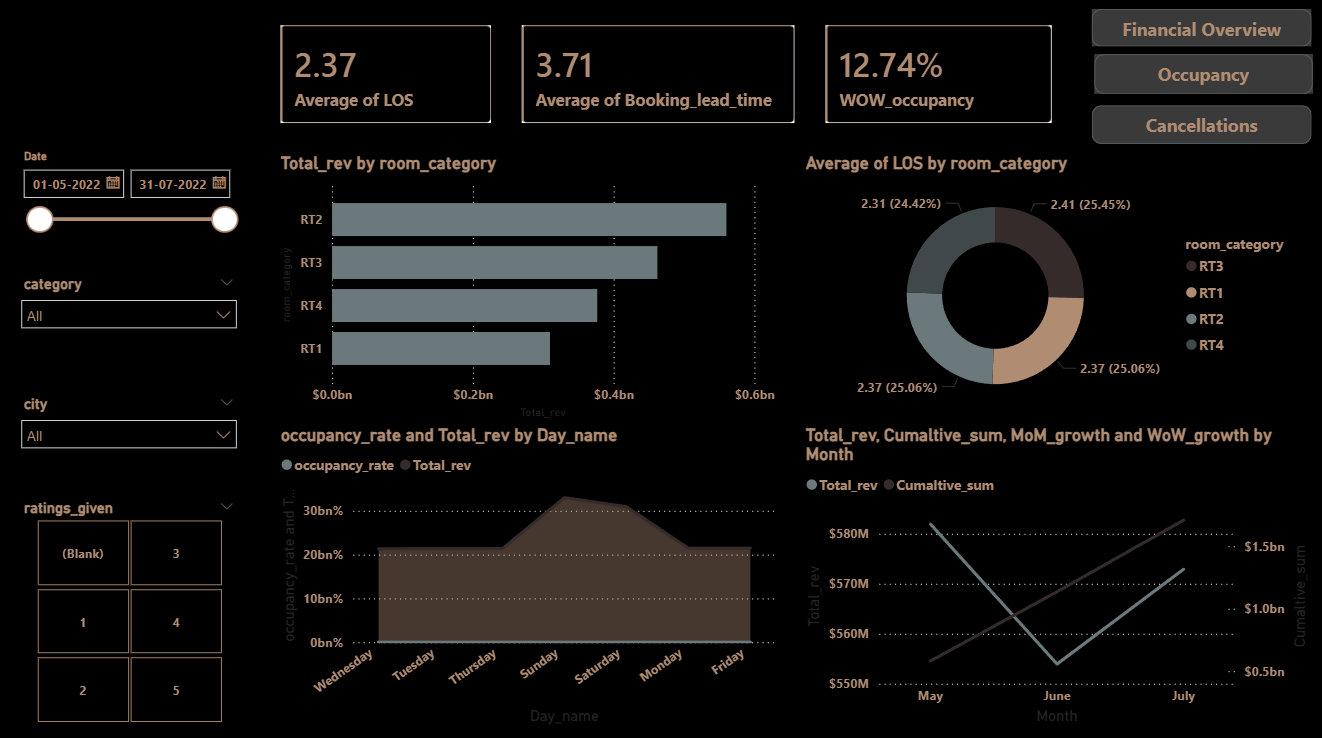

This screenshot's page, from the dashboard's own definition file:
{"tool":"powerbi","page":{"name":"Page 6","canvas":[1280,720],"ordinal":5},"visuals":[{"type":"barChart","fields":{"Category":["bookings.room_category"],"Y":["Z.Total_rev"]},"box":[267.8,148.4,487.4,261.8],"z":0},{"type":"stackedAreaChart","fields":{"Category":["Calender.Day_name"],"Y":["Z.occupancy_rate","Z.Total_rev"]},"box":[267.8,410.2,487.4,294.4],"z":1000},{"type":"donutChart","fields":{"Category":["hotels.category","bookings.room_category"],"Y":["Avg(bookings.LOS)"]},"box":[774.5,148.4,493.4,257],"z":2000},{"type":"lineChart","fields":{"Category":["Calender.Date.Variation.Date Hierarchy.Month"],"Y":["Z.Total_rev"],"Y2":["Z.Cumaltive_sum"]},"box":[774.5,410.2,494.6,294.4],"z":3000},{"type":"cardVisual","fields":{"Data":["Avg(bookings.LOS)"]},"box":[267.8,20.5,213.5,105],"z":4000},{"type":"cardVisual","fields":{"Data":["Avg(bookings.Booking_lead_time)"]},"box":[500.7,20.5,273.9,105],"z":5000},{"type":"slicer","fields":{"Values":["hotels.category"]},"box":[12.1,261.8,228,98.9],"z":6000},{"type":"slicer","fields":{"Values":["Calender.Date"]},"box":[12.1,139.9,228,114.6],"z":7000},{"type":"slicer","fields":{"Values":["hotels.city"]},"box":[12.1,377.6,228,92.9],"z":8000},{"type":"slicer","fields":{"Values":["bookings.ratings_given"]},"box":[12.1,477.8,228,226.8],"z":9000},{"type":"shape","box":[1055.6,9.7,212.3,36.2],"z":10000},{"type":"shape","box":[1057.5,52.5,211,38.8],"z":11000},{"type":"cardVisual","fields":{"Data":["Z.WOW_occupancy"]},"box":[793.8,20.5,228,105],"z":12000},{"type":"shape","box":[1055.6,102.5,212.3,37.4],"z":13000}]}

Visuals, with their boxes in screenshot pixels (x1, y1, x2, y2), scaled from the page's 1280x720 canvas onto the 1322x738 screenshot:
barChart - bookings.room_category x Z.Total_rev: <region>277, 152, 780, 420</region>
stackedAreaChart - Calender.Day_name x Z.occupancy_rate: <region>277, 420, 780, 722</region>
donutChart - hotels.category x bookings.room_category: <region>800, 152, 1310, 416</region>
lineChart - Calender.Date.Variation.Date Hierarchy.Month x Z.Total_rev: <region>800, 420, 1311, 722</region>
cardVisual - Avg(bookings.LOS): <region>277, 21, 497, 129</region>
cardVisual - Avg(bookings.Booking_lead_time): <region>517, 21, 800, 129</region>
slicer - hotels.category: <region>12, 268, 248, 370</region>
slicer - Calender.Date: <region>12, 143, 248, 261</region>
slicer - hotels.city: <region>12, 387, 248, 482</region>
slicer - bookings.ratings_given: <region>12, 490, 248, 722</region>
shape: <region>1090, 10, 1310, 47</region>
shape: <region>1092, 54, 1310, 94</region>
cardVisual - Z.WOW_occupancy: <region>820, 21, 1055, 129</region>
shape: <region>1090, 105, 1310, 143</region>
